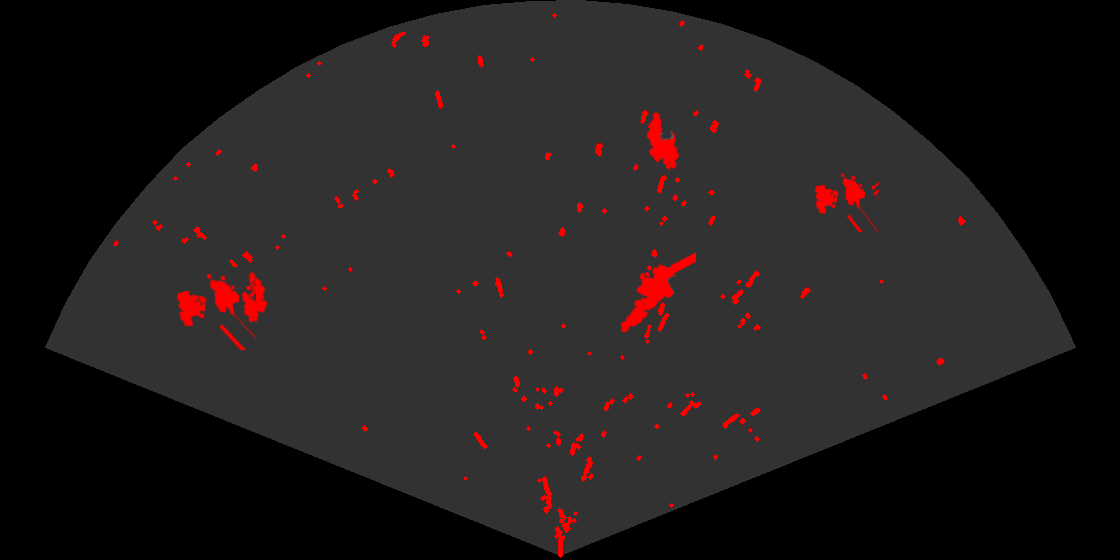AUV: (645, 109, 681, 172), (240, 270, 269, 325)
cage: (175, 272, 256, 350), (813, 172, 879, 232)
frogman: (619, 250, 696, 334)
